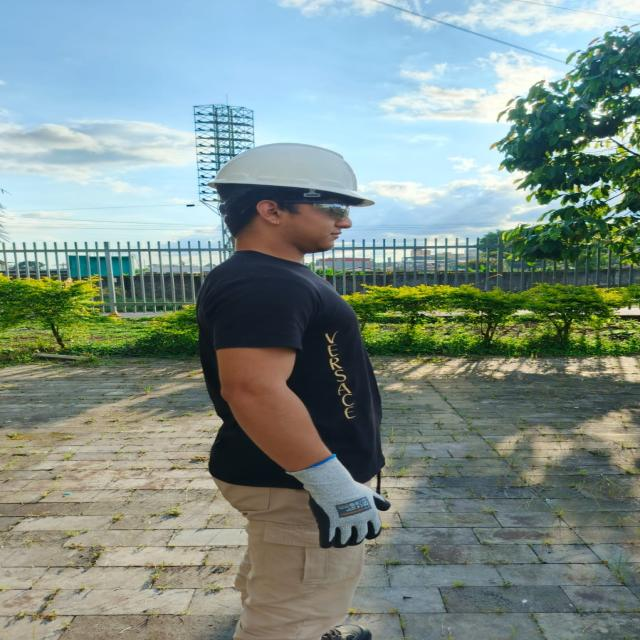gloves: (290, 455, 389, 548)
helmet: (206, 143, 366, 199)
protective_glasses: (273, 201, 348, 221)
